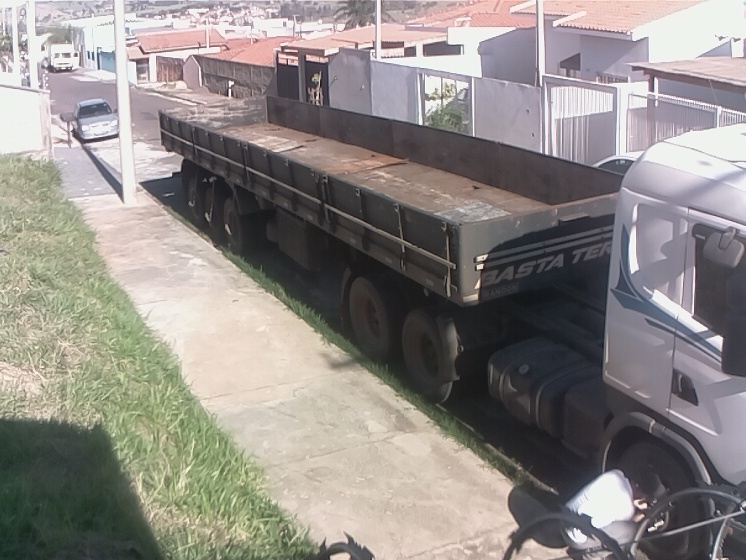person: (557, 467, 660, 560)
